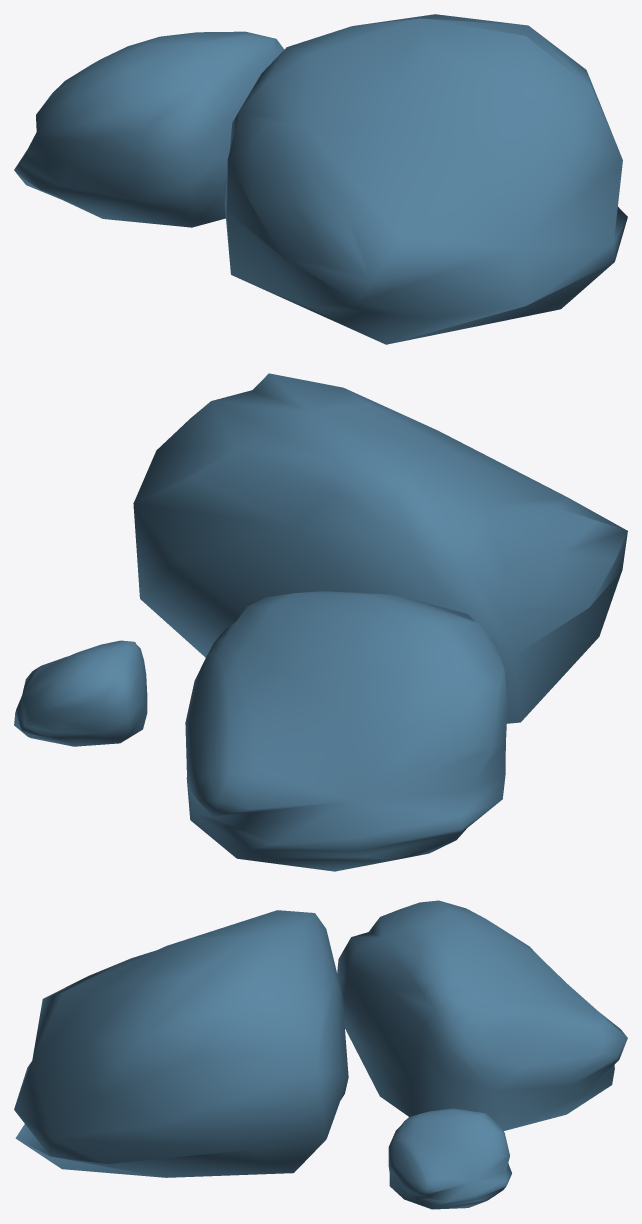
The model's file is RocaChica.fbx.
3 renders of one model, top to bottom at view 1: azimuth 30°, elevation 25°; view 2: azimuth 150°, elevation 25°; view 3: azimuth 270°, elevation 25°, orthographic. The views are drawn at different scales.
Parts seen in each view (by area): view 1: Cube, Cube.002; view 2: Cube, Cube.002, Cube.001; view 3: Cube, Cube.002, Cube.001.
Boxes of the visible parts, bbox=[...] form: Cube: bbox=[224, 14, 627, 344]; Cube.002: bbox=[14, 31, 284, 227]; Cube: bbox=[133, 373, 627, 723]; Cube.002: bbox=[185, 591, 507, 871]; Cube.001: bbox=[14, 640, 147, 746]; Cube: bbox=[14, 910, 348, 1177]; Cube.002: bbox=[337, 900, 627, 1130]; Cube.001: bbox=[388, 1108, 511, 1209].
Bounding box in the file's own units: 112 × 55.13 × 148.
